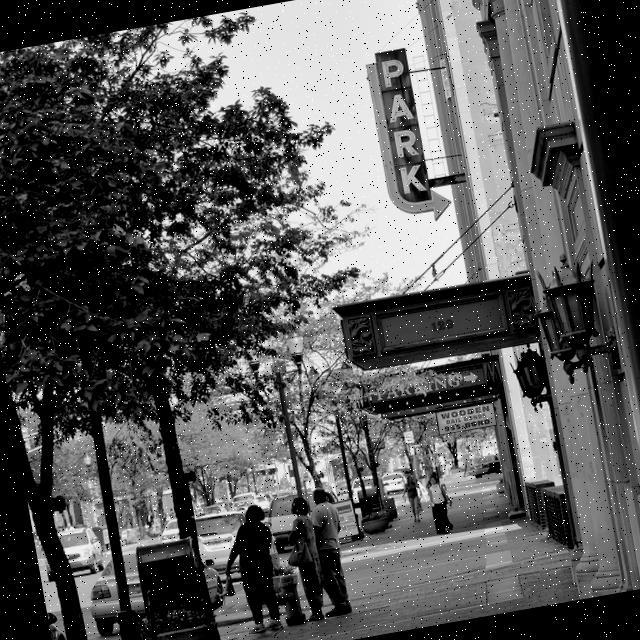fire_hydrant: (270, 568, 306, 628)
